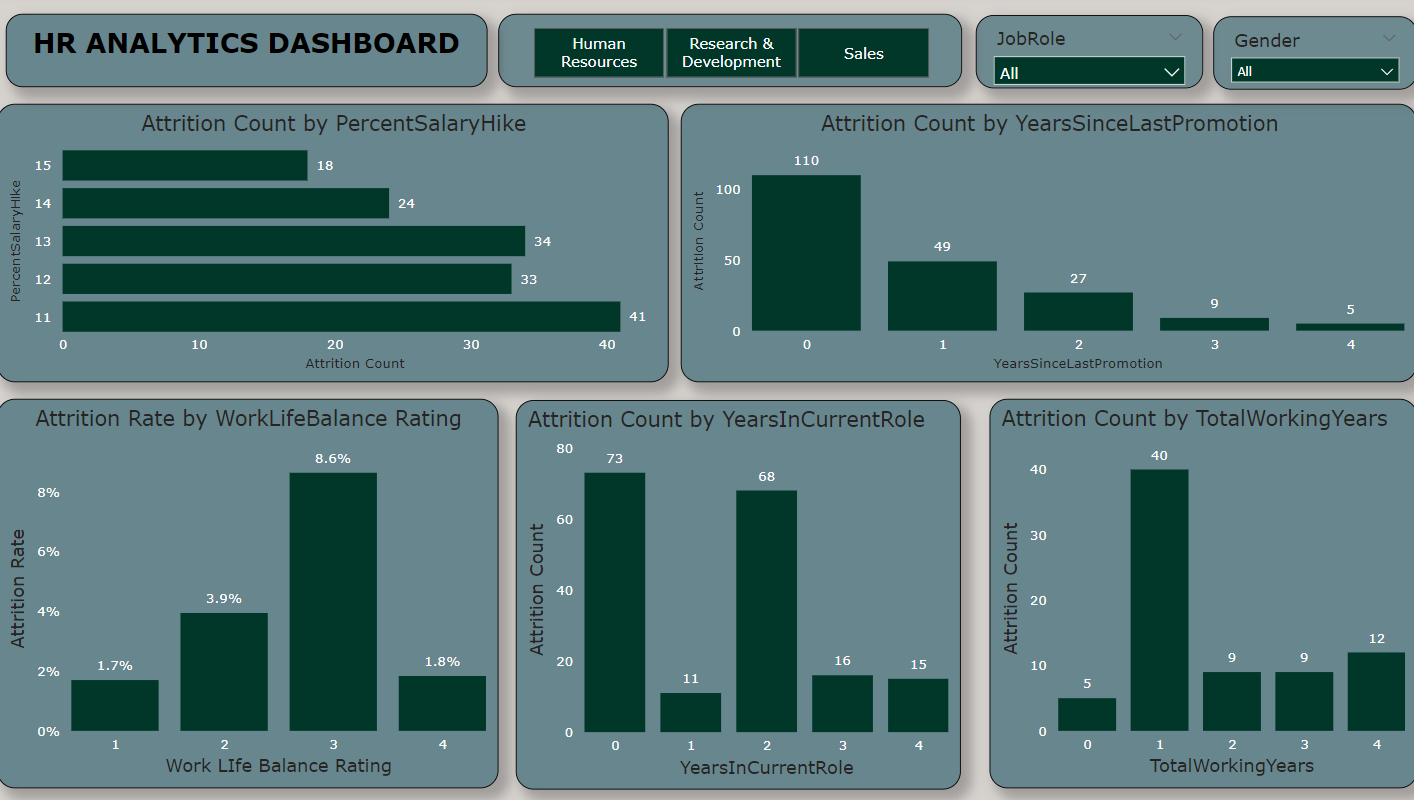

The dashboard page shown, as its layout file describes it:
{"tool":"powerbi","page":{"name":"Part 2","canvas":[1280,720],"ordinal":1},"visuals":[{"type":"clusteredBarChart","title":"Attrition Count by PercentSalaryHike","fields":{"Category":["HR_Analytics.PercentSalaryHike"],"Y":["Sum(HR_Analytics.Attrition Count)"]},"box":[0,96.7,600,248.9],"z":0},{"type":"columnChart","title":"Attrition Count by YearsSinceLastPromotion","fields":{"Category":["HR_Analytics.YearsSinceLastPromotion"],"Y":["Sum(HR_Analytics.Attrition Count)"]},"box":[611.1,96.7,657.8,248.9],"z":1000},{"type":"columnChart","title":" Attrition Count by TotalWorkingYears","fields":{"Y":["Sum(HR_Analytics.Attrition Count)"],"Category":["HR_Analytics.TotalWorkingYears"]},"box":[886,360.5,382.6,347.7],"z":2000},{"type":"columnChart","title":"Attrition Rate by WorkLifeBalance Rating","fields":{"Category":["HR_Analytics.WorkLifeBalance"],"Y":["Sum(HR_Analytics.Attrition Rate)"]},"box":[0,360.5,447.7,347.7],"z":3000},{"type":"columnChart","title":"Attrition Count by YearsInCurrentRole","fields":{"Category":["HR_Analytics.YearsInCurrentRole"],"Y":["Sum(HR_Analytics.Attrition Count)"]},"box":[464,361.6,397.7,347.7],"z":4000},{"type":"slicer","fields":{"Values":["HR_Analytics.JobRole"]},"box":[874.4,17.8,203.3,65.6],"z":5000},{"type":"slicer","fields":{"Values":["HR_Analytics.Department"]},"box":[447.8,16.7,414.4,65.6],"z":6000},{"type":"textbox","box":[7.8,16.7,430,65.6],"z":7000},{"type":"slicer","fields":{"Values":["HR_Analytics.Gender"]},"box":[1086.7,18.9,182.2,65.6],"z":8000}]}

Visuals, with their boxes in screenshot pixels (x1, y1, x2, y2), scaled from the page's 1280x720 canvas onto the 1414x800 screenshot:
"Attrition Count by PercentSalaryHike" clusteredBarChart: box(0, 107, 663, 384)
"Attrition Count by YearsSinceLastPromotion" columnChart: box(675, 107, 1402, 384)
" Attrition Count by TotalWorkingYears" columnChart: box(979, 401, 1401, 787)
"Attrition Rate by WorkLifeBalance Rating" columnChart: box(0, 401, 495, 787)
"Attrition Count by YearsInCurrentRole" columnChart: box(513, 402, 952, 788)
slicer - HR_Analytics.JobRole: box(966, 20, 1191, 93)
slicer - HR_Analytics.Department: box(495, 19, 952, 91)
textbox: box(9, 19, 484, 91)
slicer - HR_Analytics.Gender: box(1200, 21, 1402, 94)
